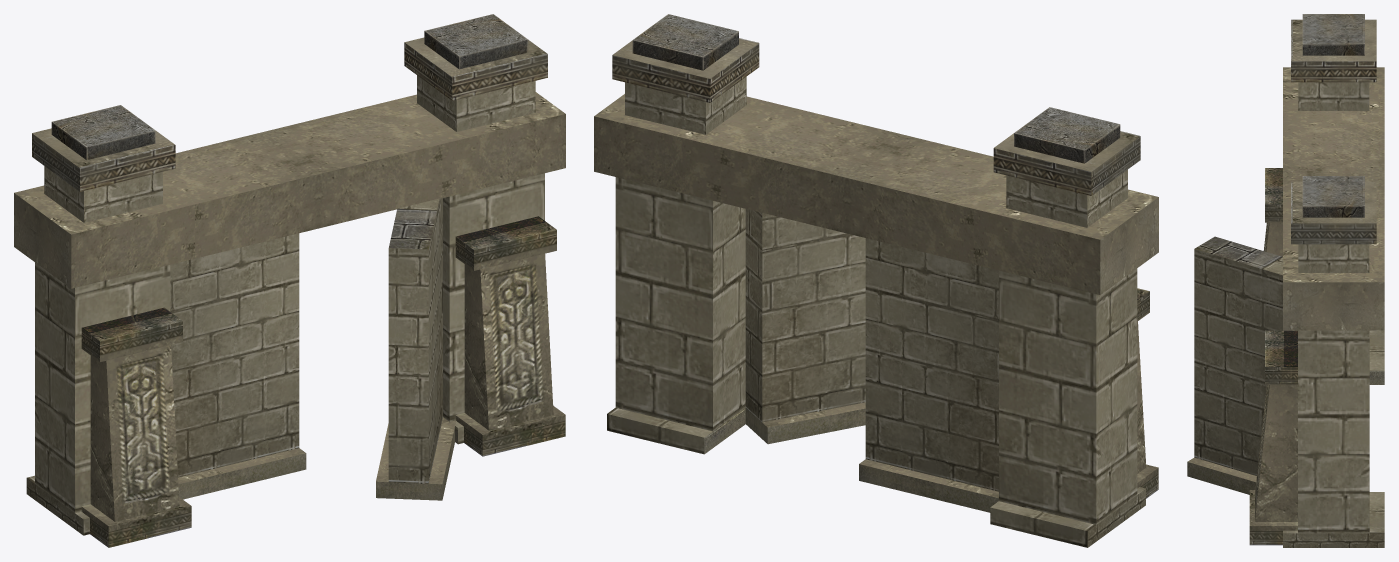
Rendered from BraTrace004_03.FBX.
3 renders of one model, left to right at view 1: azimuth 30°, elevation 25°; view 2: azimuth 150°, elevation 25°; view 3: azimuth 270°, elevation 25°, orthographic. The views are drawn at different scales.
Parts seen in each view (by area): view 1: BraTrace004_03; view 2: BraTrace004_03; view 3: BraTrace004_03.
Part boxes in pixels (x1,y1,x2,y2): BraTrace004_03: (14, 14, 565, 547); BraTrace004_03: (594, 14, 1158, 547); BraTrace004_03: (1187, 14, 1384, 547).
Bounding box in the file's own units: 1346 × 980 × 522.
